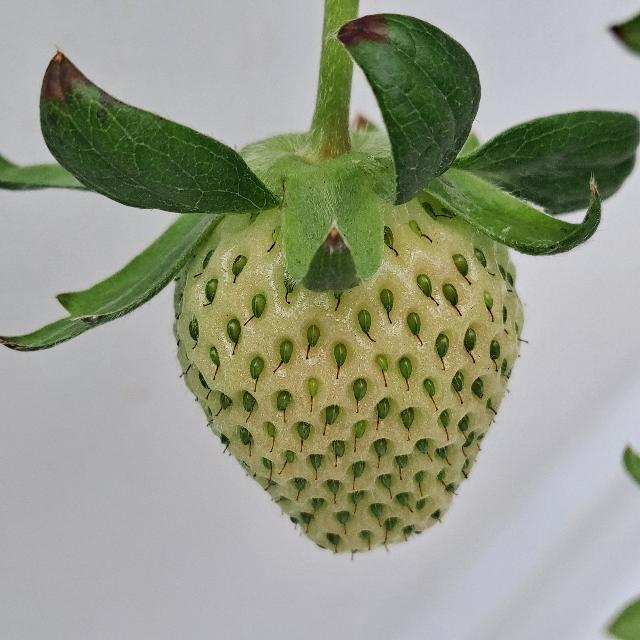Health_25: (172, 191, 524, 553)
